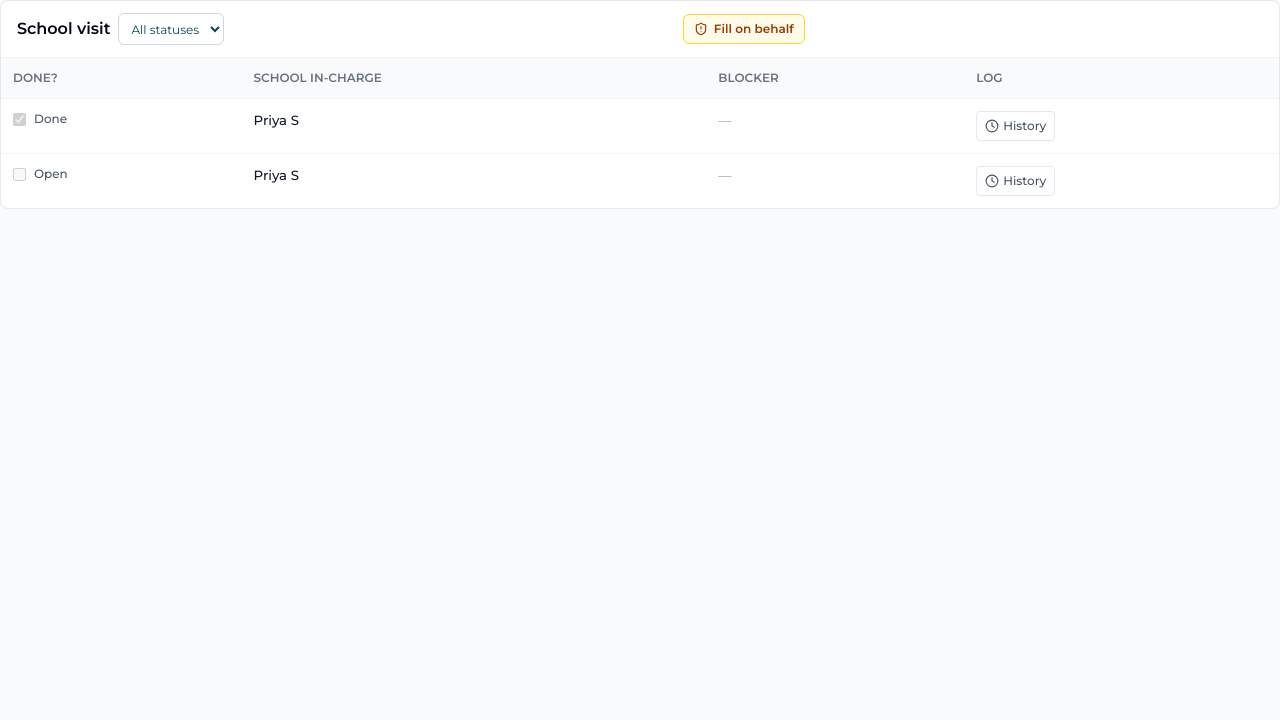
completed rows can be corrected › keeps the already-complete rows editable inside a session and warns it is a correction
Click the button "Fill on behalf": click(744, 29) [683,14,805,44]
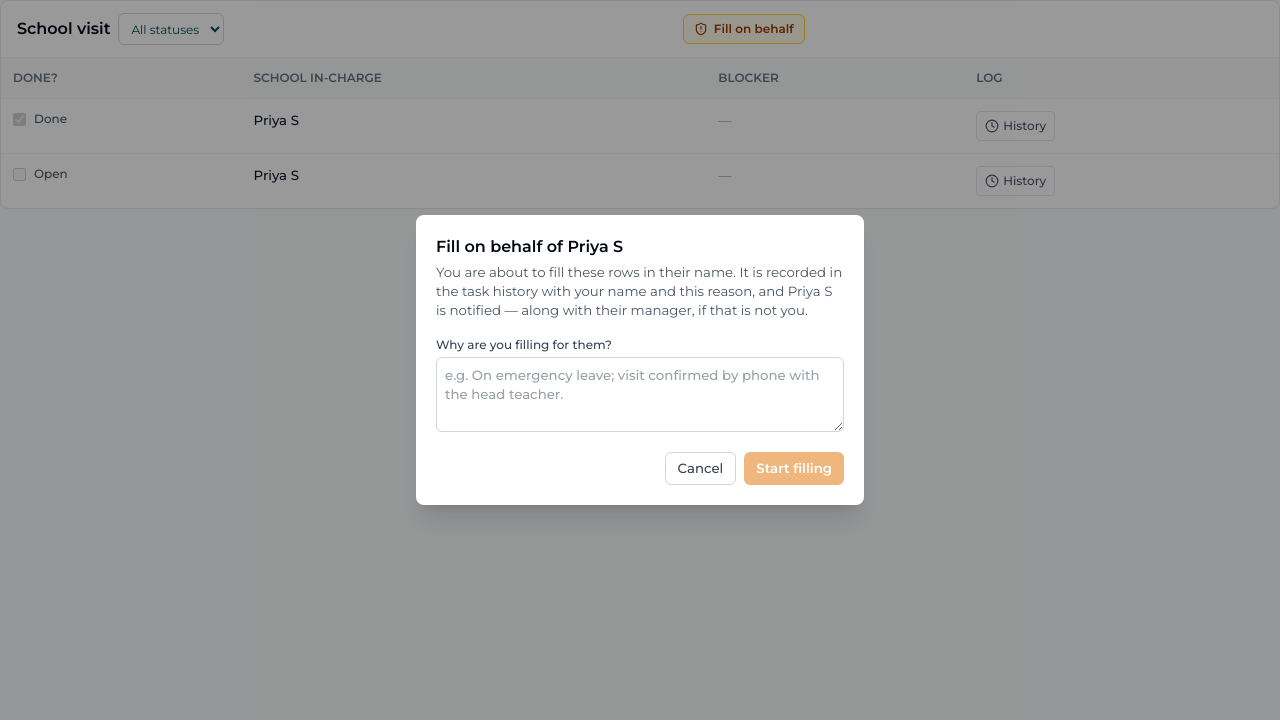
Replace the text in the text box labelled "Why are you filling for them?" with "On emergency leave; confirmed by phone.": (640, 394) [436,356,844,432]
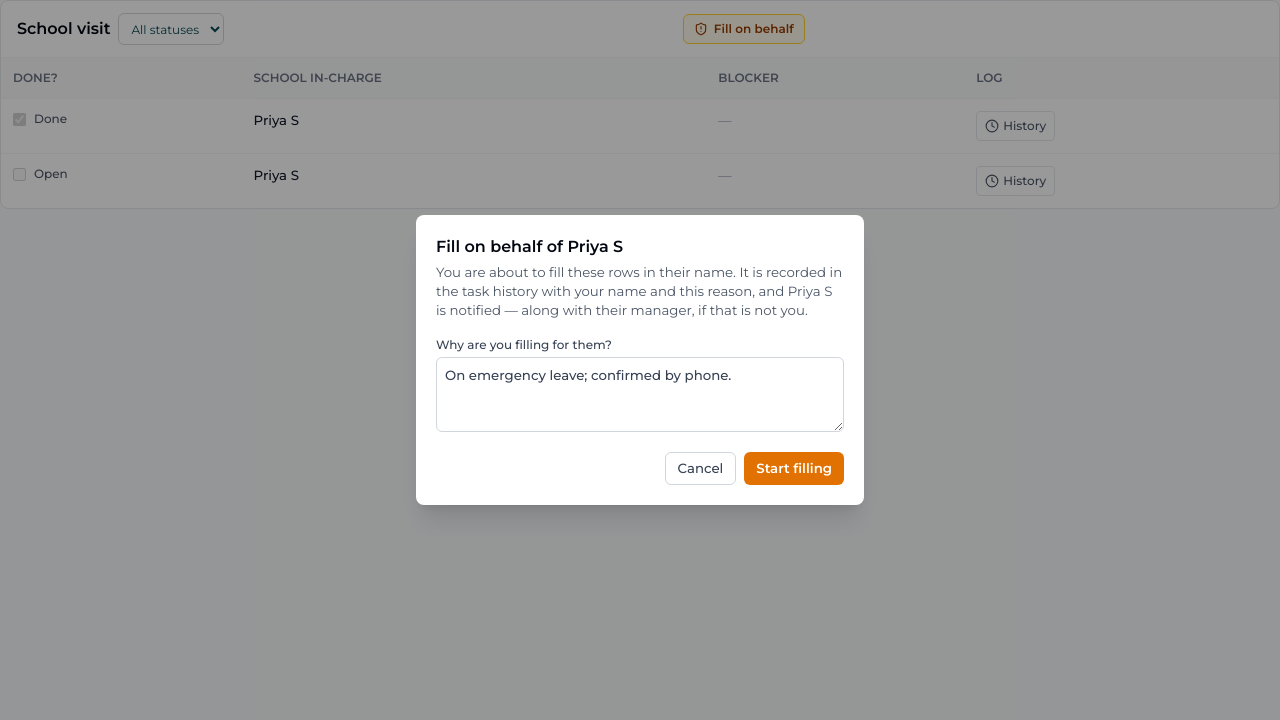
Click the button "Start filling": click(794, 468) [744,452,844,484]
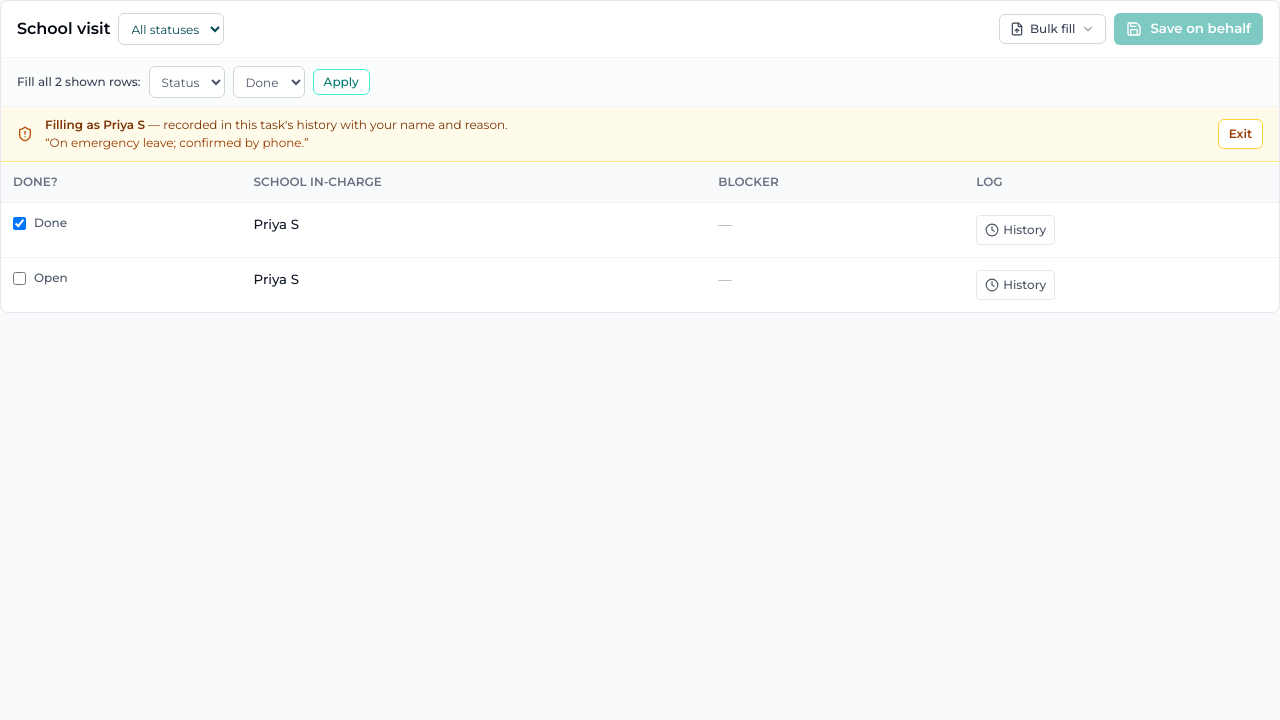
Expected: the checkbox labelled "Done" is shown, [13,216,26,230]
Expected: the text "Filling as Priya S" is shown, [45,117,145,132]
